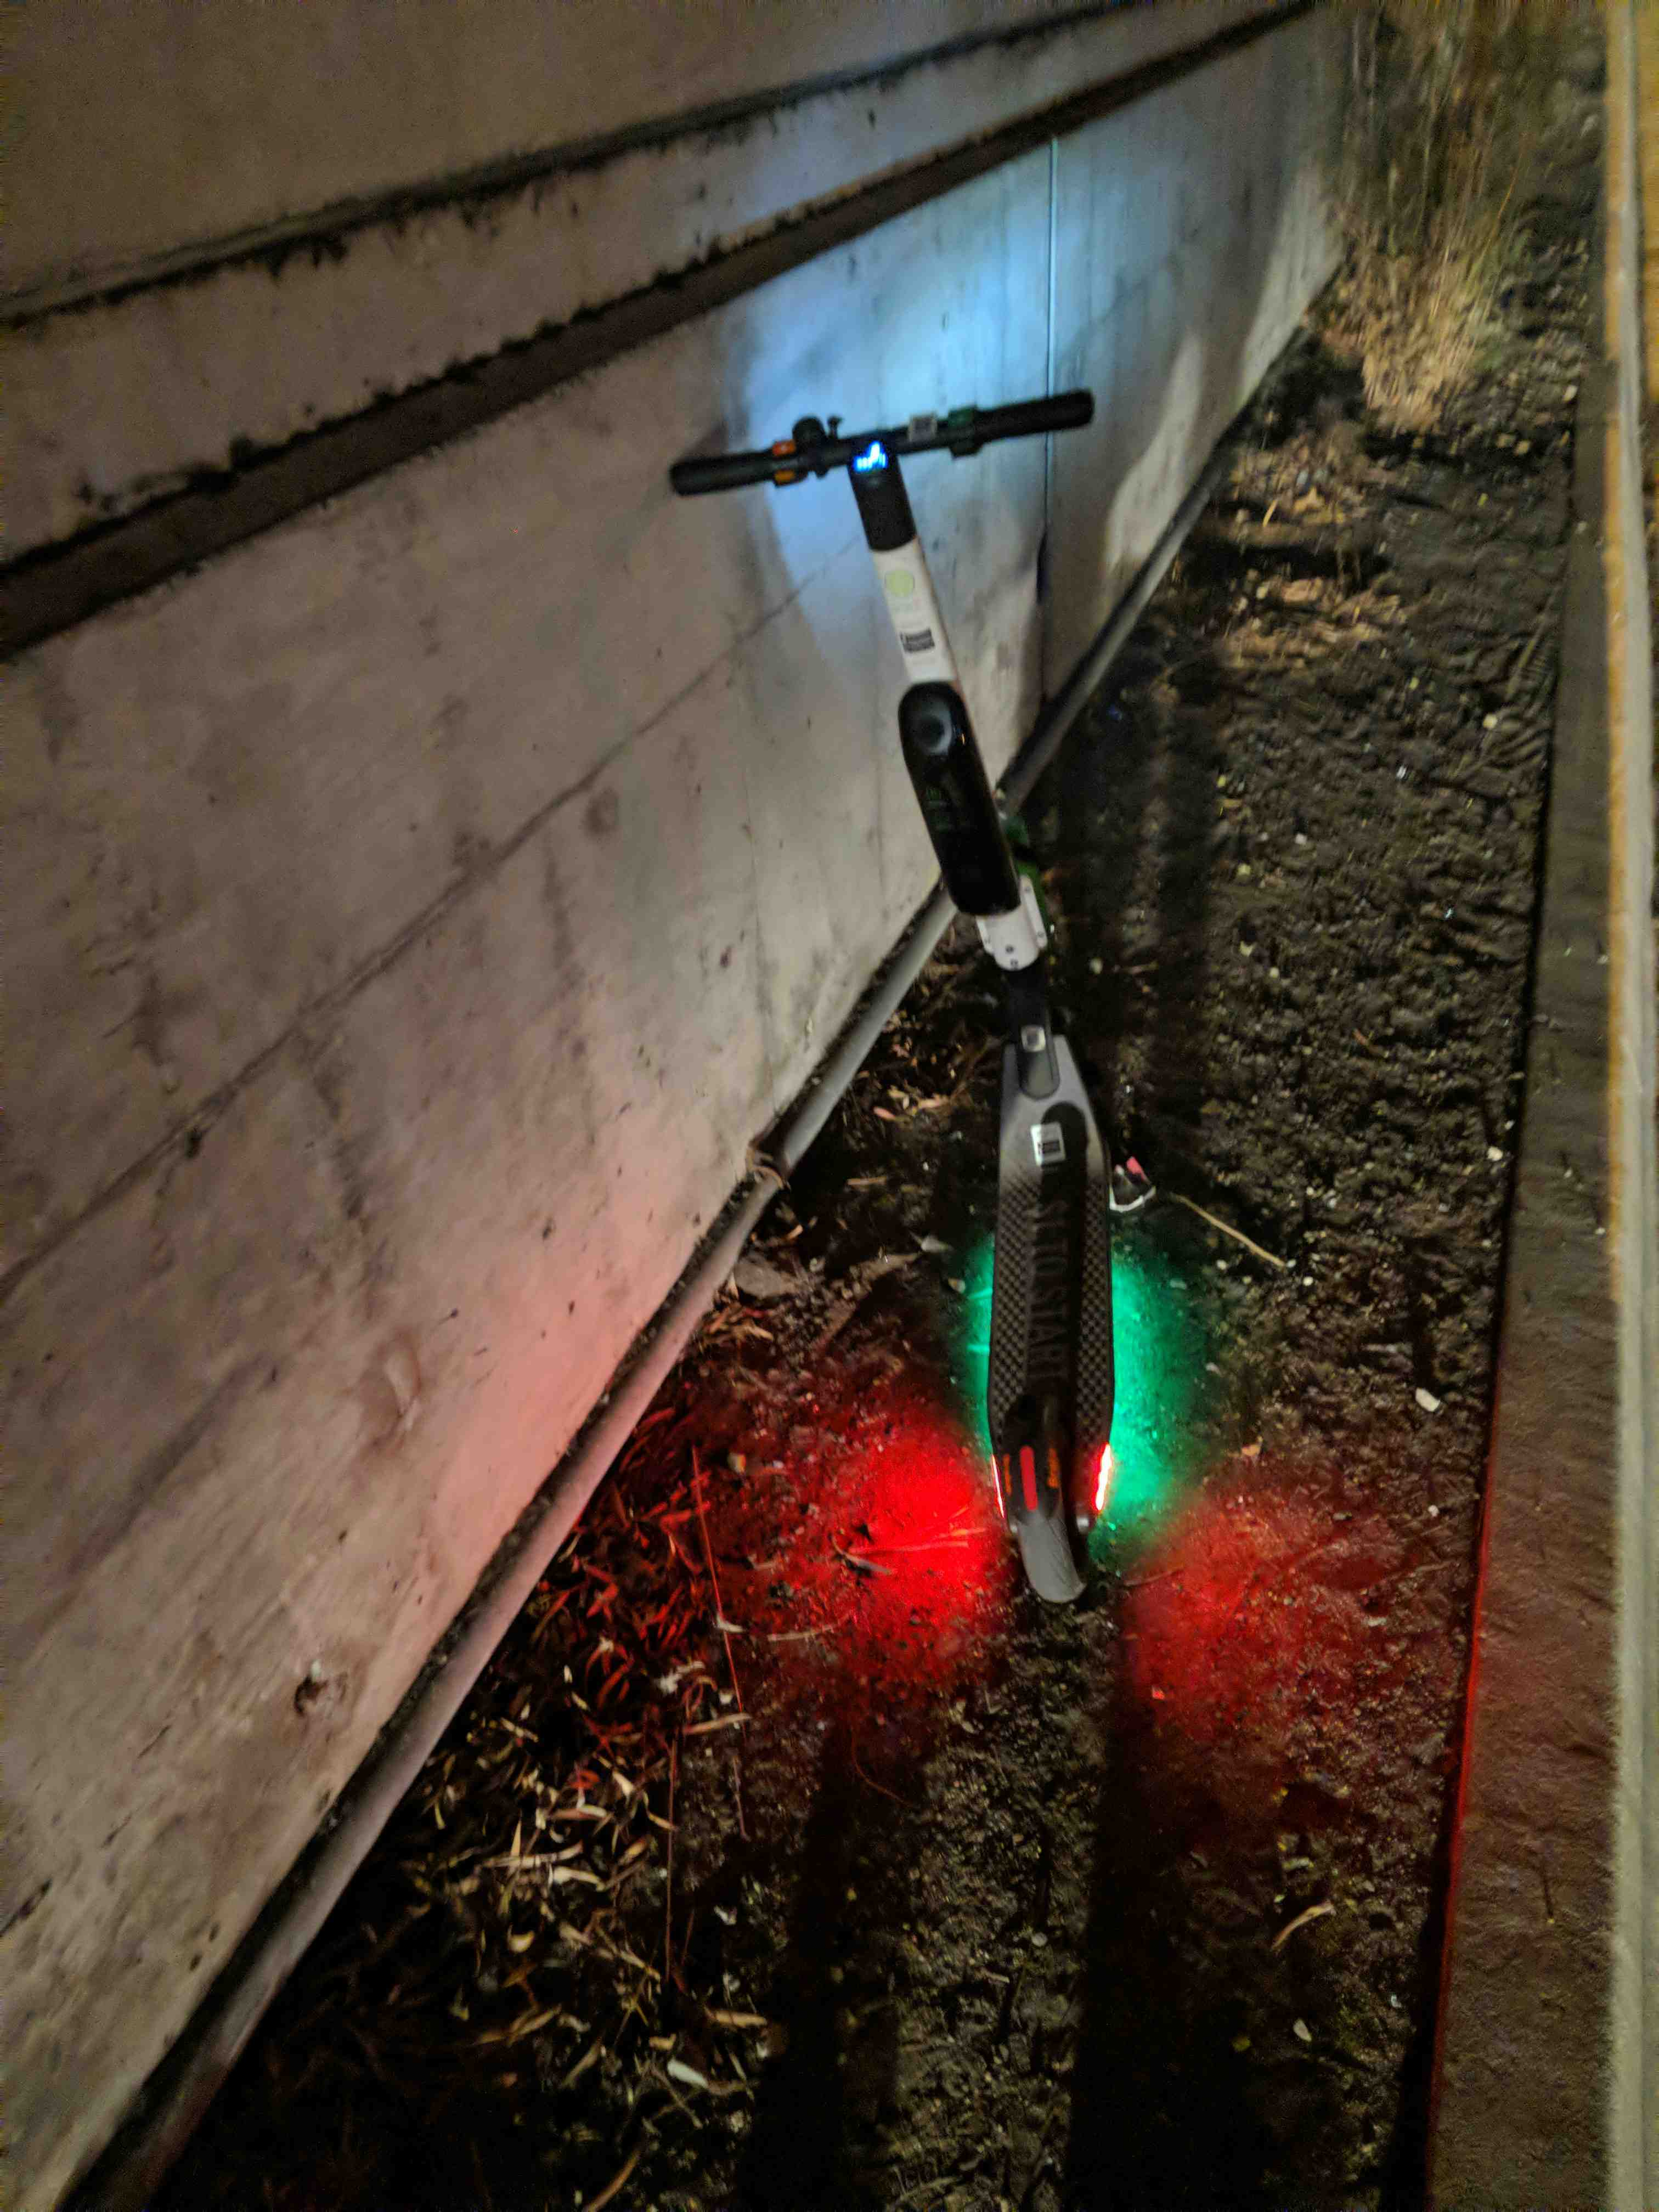scooter: (683, 334, 1302, 1670)
